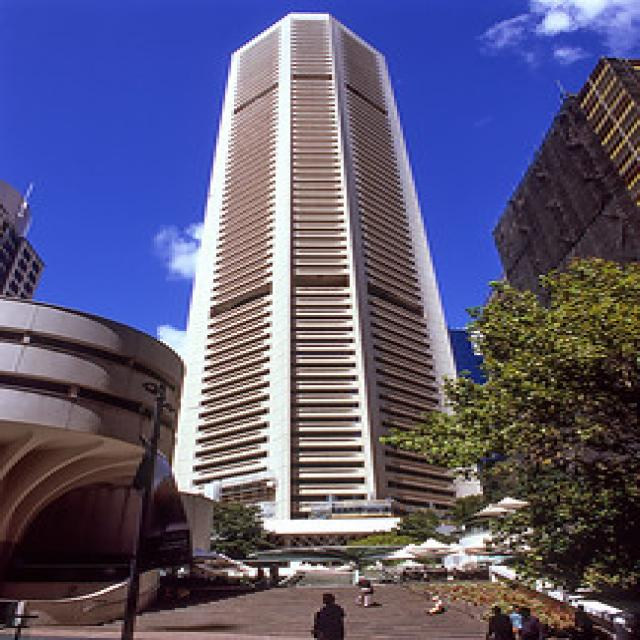Normal_building: (167, 10, 493, 556)
